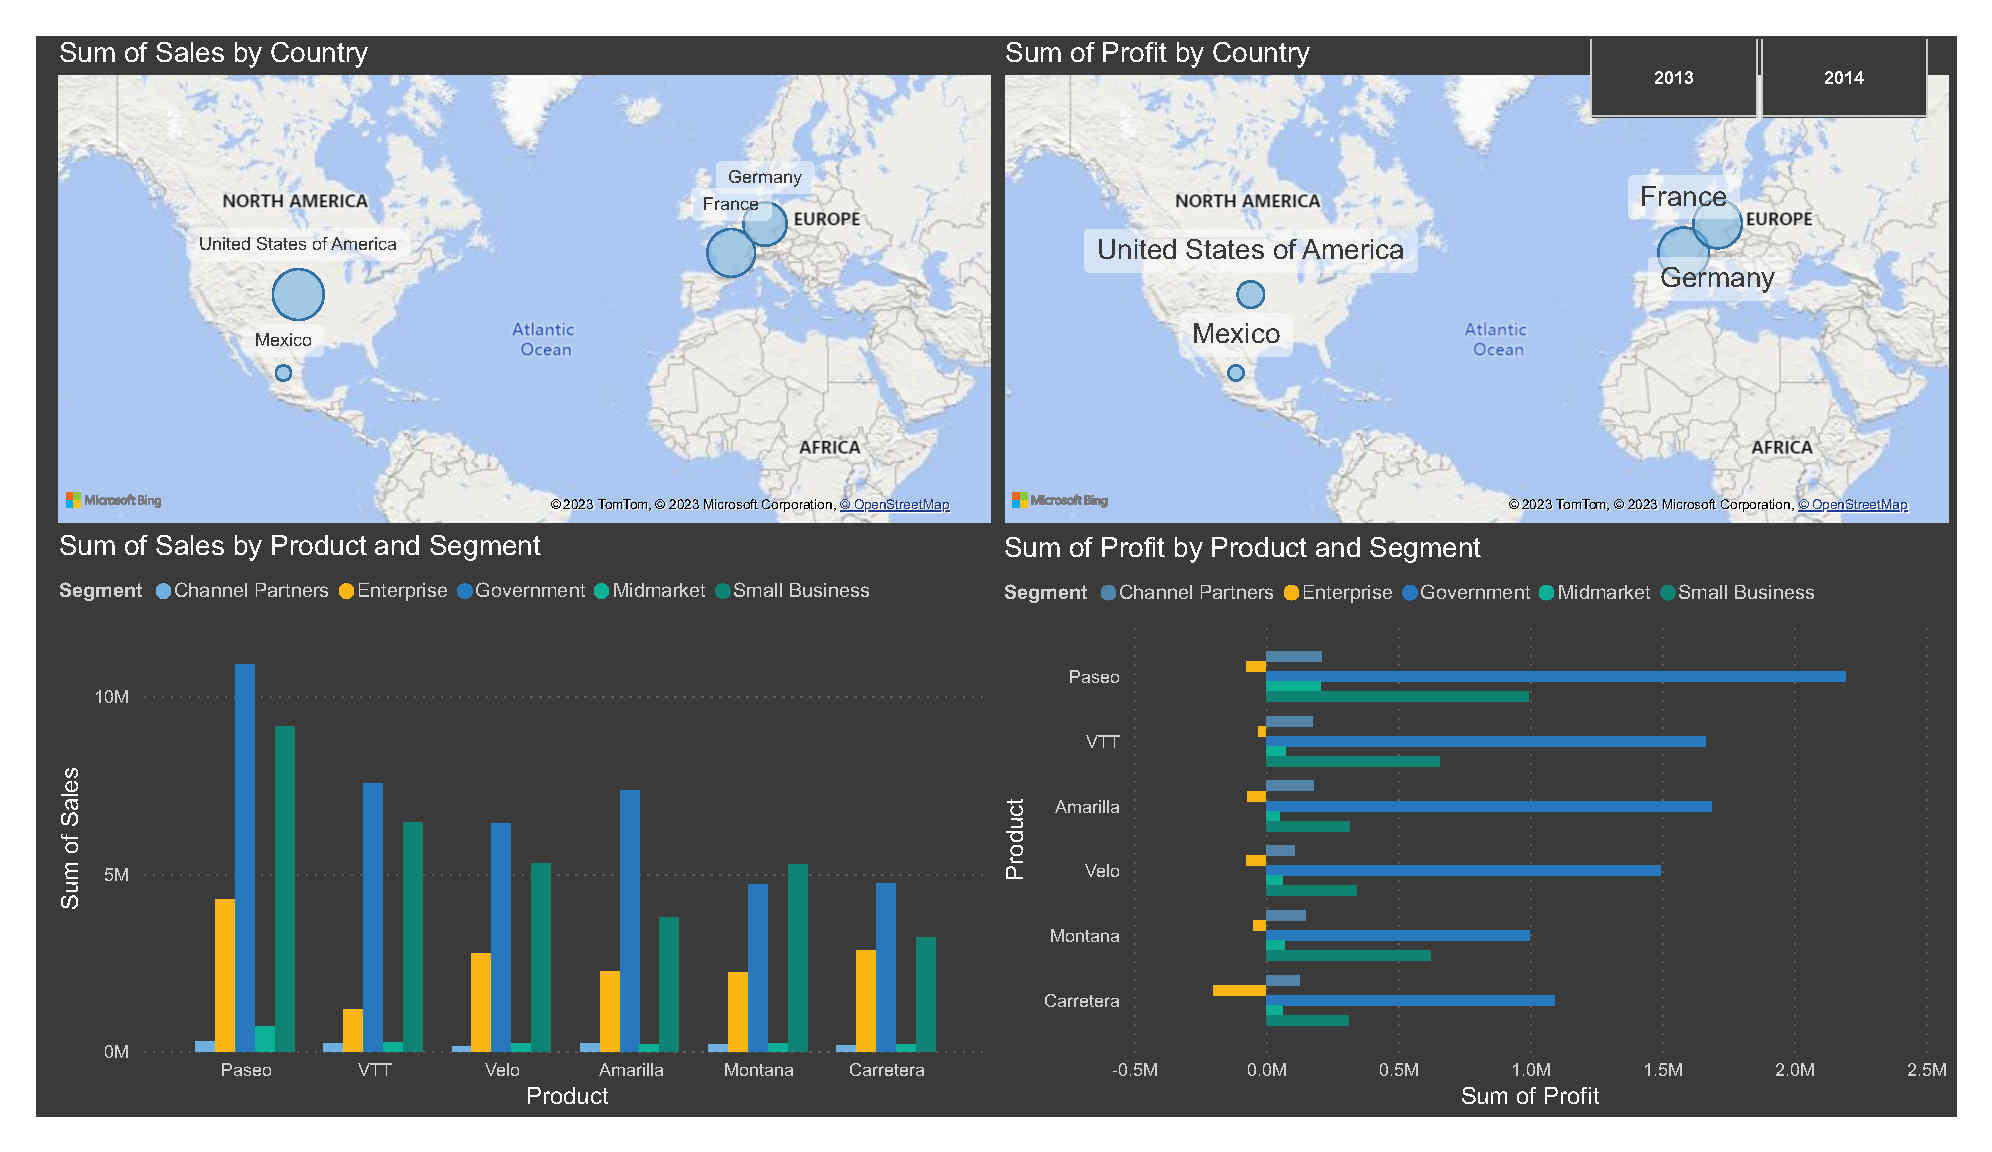

What the dashboard file says about the page in this screenshot:
{"tool":"powerbi","page":{"name":"Page 2","canvas":[1280,720],"ordinal":1},"visuals":[{"type":"map","fields":{"Category":["financials.Country"],"Size":["Sum(financials. Sales)"]},"box":[9.5,0,631,329],"z":0},{"type":"clusteredColumnChart","fields":{"Y":["Sum(financials. Sales)"],"Category":["financials.Product"],"Series":["financials.Segment"]},"box":[9.5,329,631,391],"z":1000},{"type":"clusteredBarChart","fields":{"Category":["financials.Product"],"Series":["financials.Segment"],"Y":["Sum(financials.Profit)"]},"box":[640.3,329.5,638.8,390.5],"z":2000},{"type":"map","fields":{"Category":["financials.Country"],"Size":["Sum(financials.Profit)"]},"box":[641,0,639,329],"z":3000},{"type":"slicer","fields":{"Values":["Calendar.Date.Variation.Date Hierarchy.Year"]},"box":[1014.5,0,266.2,57.9],"z":6000}]}

Visuals, with their boxes in screenshot pixels (x1, y1, x2, y2), scaled from the page's 1280x720 canvas onto the 1992x1152 screenshot:
map - financials.Country x Sum(financials. Sales): 15, 0, 997, 526
clusteredColumnChart - Sum(financials. Sales) x financials.Product: 15, 526, 997, 1151
clusteredBarChart - financials.Product x financials.Segment: 996, 527, 1991, 1151
map - financials.Country x Sum(financials.Profit): 998, 0, 1991, 526
slicer - Calendar.Date.Variation.Date Hierarchy.Year: 1579, 0, 1991, 93
